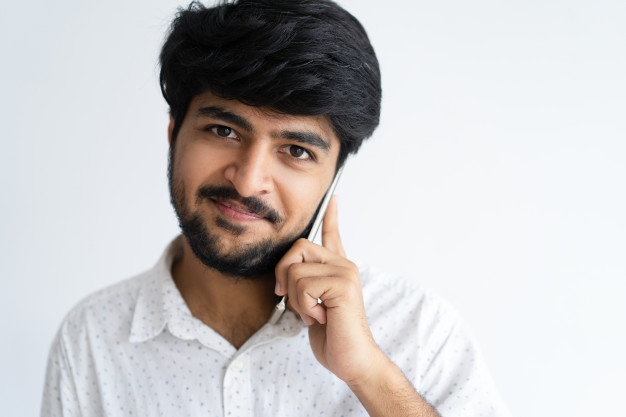phone: (307, 162, 348, 294)
talk: (170, 106, 366, 363)
